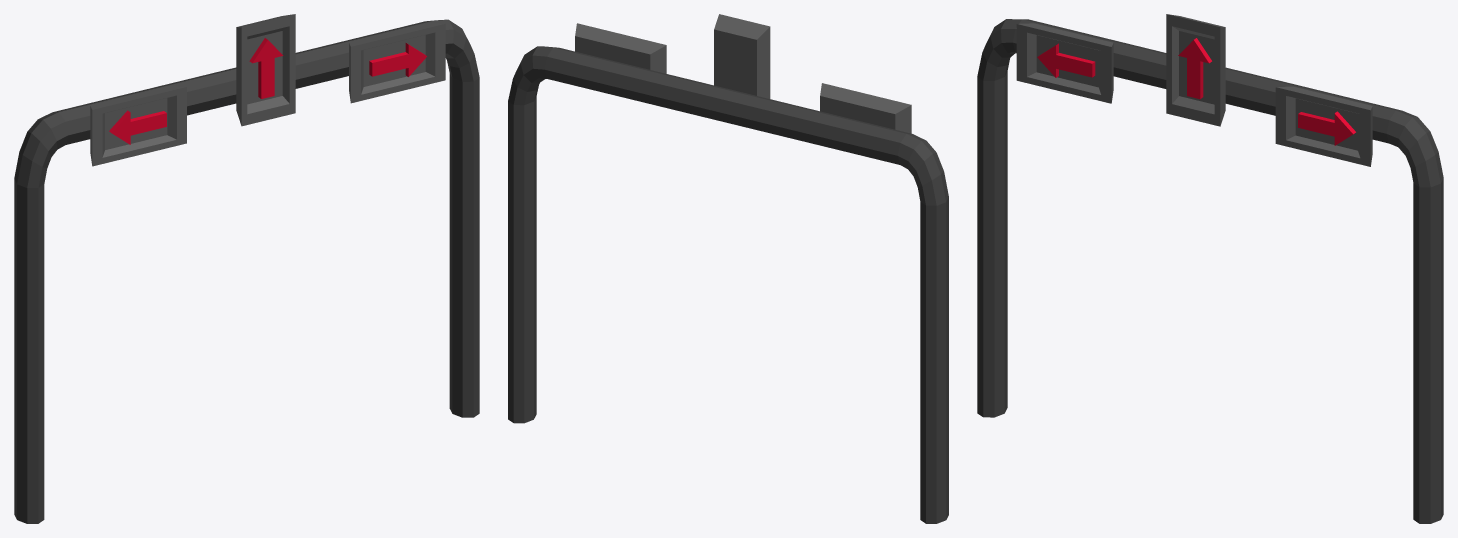
Rendered from stoplicht.fbx.
3 renders of one model, left to right at view 1: azimuth 30°, elevation 25°; view 2: azimuth 150°, elevation 25°; view 3: azimuth 330°, elevation 25°, orthographic. The views are drawn at different scales.
Visible parts, largest first — view 1: Cylinder.087, Cube.119, Cube.120, Cube.118, Cube.121, Cube.122, Cube.123; view 2: Cylinder.087, Cube.119, Cube.118, Cube.120; view 3: Cylinder.087, Cube.118, Cube.120, Cube.119, Cube.121, Cube.122, Cube.123.
Part boxes in pixels (x1,y1,x2,y2): Cylinder.087: [14, 19, 479, 523]; Cube.119: [236, 14, 295, 126]; Cube.120: [349, 23, 445, 103]; Cube.118: [90, 86, 186, 166]; Cube.121: [249, 38, 283, 98]; Cube.122: [369, 43, 426, 76]; Cube.123: [109, 110, 166, 144]; Cylinder.087: [508, 46, 948, 523]; Cube.119: [714, 14, 770, 98]; Cube.118: [820, 83, 911, 133]; Cube.120: [575, 23, 666, 73]; Cylinder.087: [977, 19, 1443, 523]; Cube.118: [1016, 23, 1113, 103]; Cube.120: [1275, 86, 1372, 166]; Cube.119: [1166, 14, 1225, 126]; Cube.121: [1178, 38, 1211, 99]; Cube.122: [1298, 111, 1355, 145]; Cube.123: [1037, 43, 1095, 77].
Bounding box in the file's own units: 515 × 489 × 55.32.
